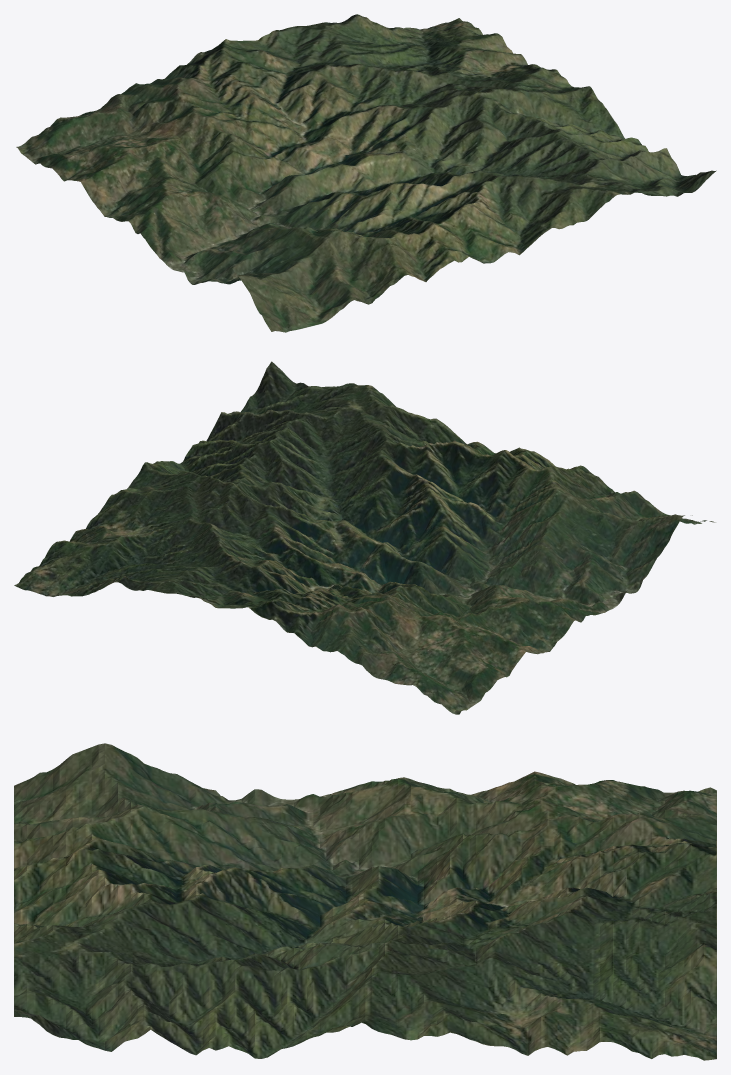
3 renders of one model, top to bottom at view 1: azimuth 30°, elevation 25°; view 2: azimuth 150°, elevation 25°; view 3: azimuth 270°, elevation 25°, orthographic. The views are drawn at different scales.
Parts seen in each view (by area): view 1: geometry_0; view 2: geometry_0; view 3: geometry_0.
Part boxes in pixels (x1,y1,x2,y2): geometry_0: (16,14,716,332); geometry_0: (14,361,715,714); geometry_0: (14,743,716,1060).
Bounding box in the file's own units: 9996 × 1403 × 10010.
Materials: 1 (1 with a texture image).
